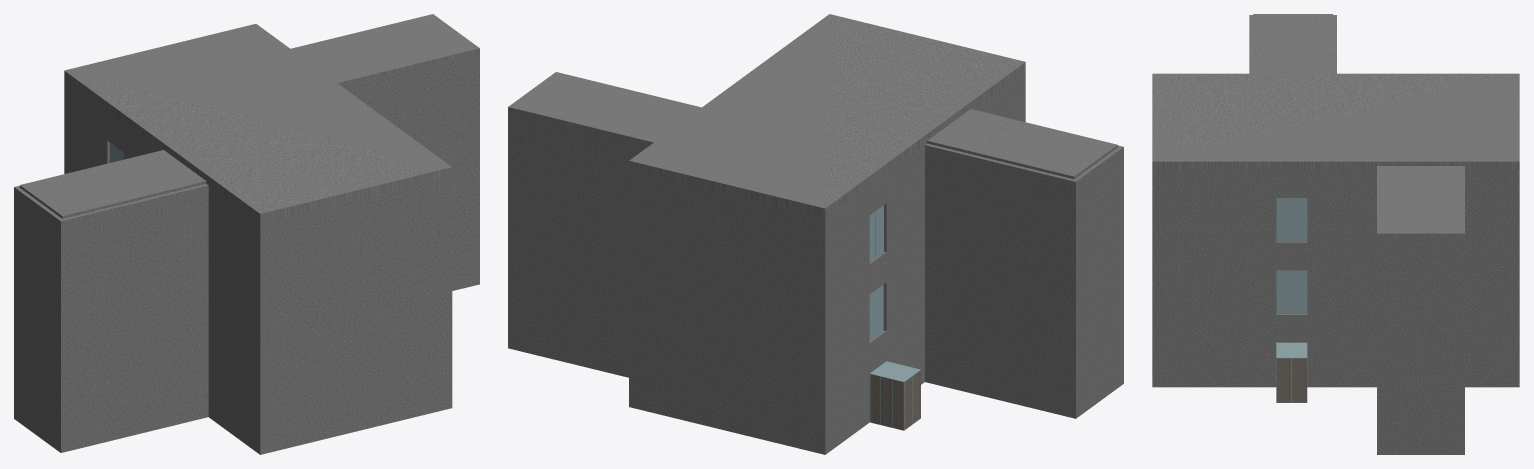
3 renders of one model, left to right at view 1: azimuth 30°, elevation 25°; view 2: azimuth 150°, elevation 25°; view 3: azimuth 270°, elevation 25°, orthographic. The views are drawn at different scales.
Visible parts, largest first — view 1: 墙壁; view 2: 墙壁, 电梯_2; view 3: 墙壁, 电梯_1, DL21, DL31, DR21, DR31.
Part boxes in pixels (box(x1,y1,x2,y2)): 墙壁: box(14, 14, 479, 454); 墙壁: box(508, 14, 1123, 454); 电梯_2: box(869, 361, 920, 430); 墙壁: box(1152, 14, 1519, 454); 电梯_1: box(1276, 342, 1307, 402); DL21: box(1291, 270, 1307, 313); DL31: box(1291, 198, 1307, 241); DR21: box(1276, 270, 1291, 313); DR31: box(1276, 198, 1291, 241).
Size of the model in its own units: 2640 by 1251 by 1840.
